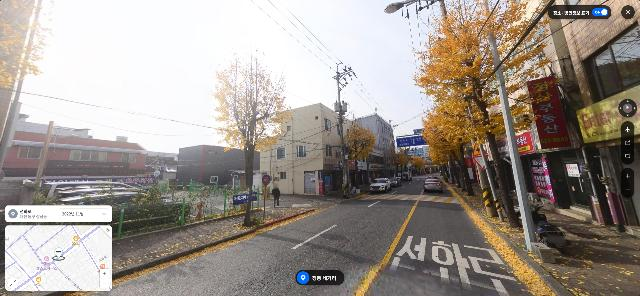ginkgo: (412, 0, 553, 228), (212, 35, 292, 227), (420, 98, 477, 198), (346, 121, 378, 193), (426, 140, 454, 184), (394, 148, 413, 181)
